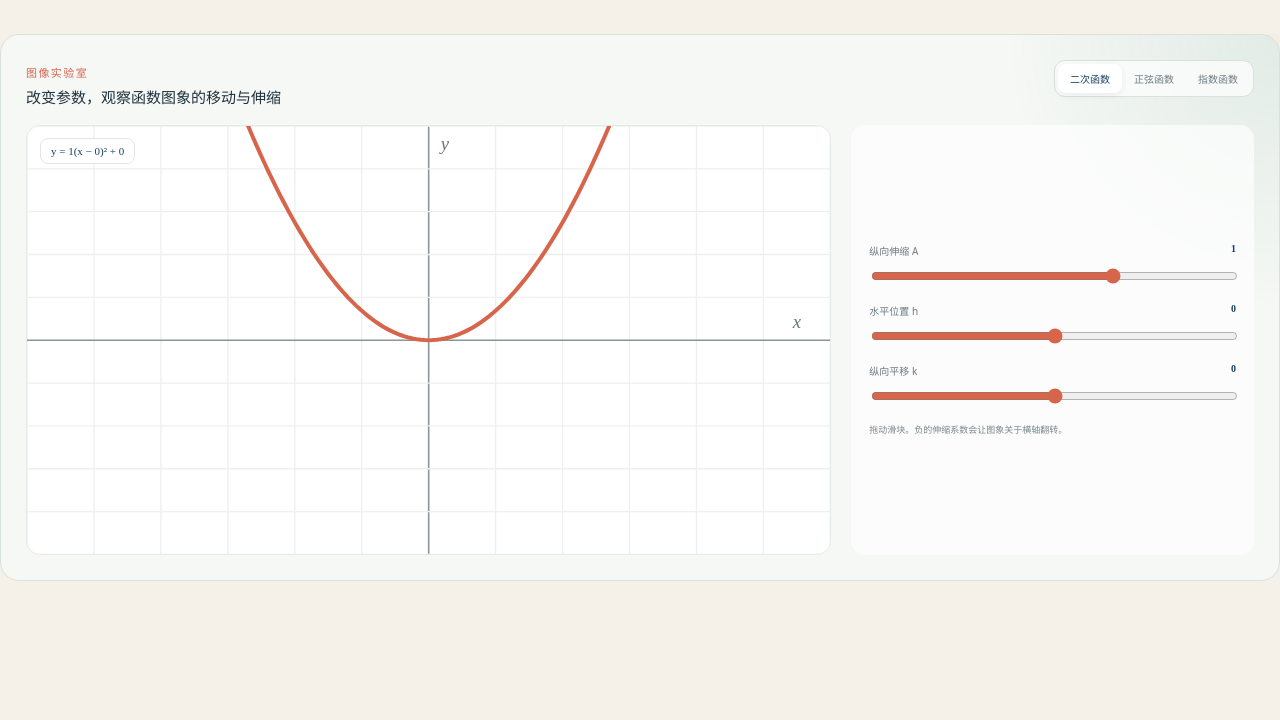
Test: interactive learning widgets › updates the function expression from a slider
Set the slider labelled "纵向伸缩 A" to "2": [1055, 276] box top-left (871, 268), bottom-right (1238, 284)
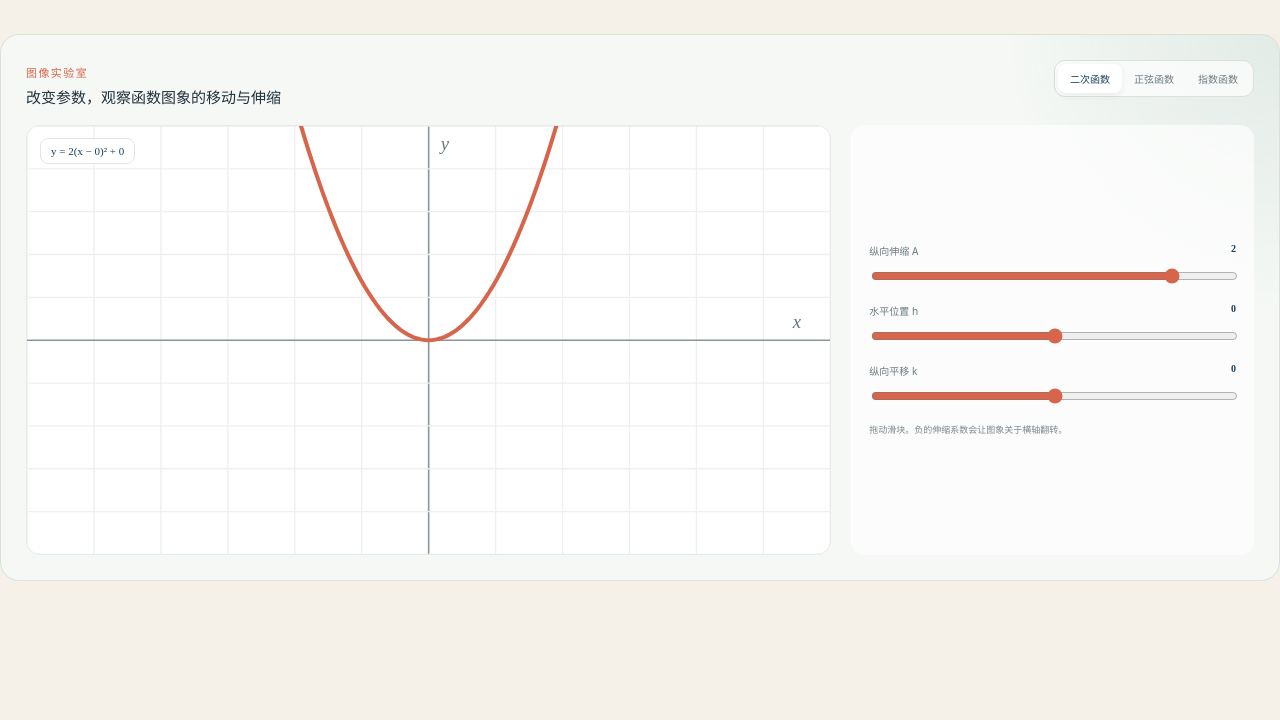
Expected: the text "y = 2(x − 0)² + 0" is shown, top-left (51, 145), bottom-right (124, 157)
